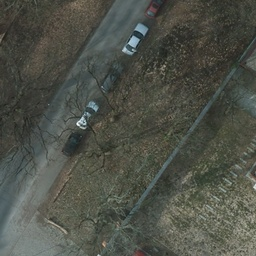car: (121, 23, 146, 57), (97, 60, 124, 91), (75, 100, 98, 130), (62, 129, 85, 155)
